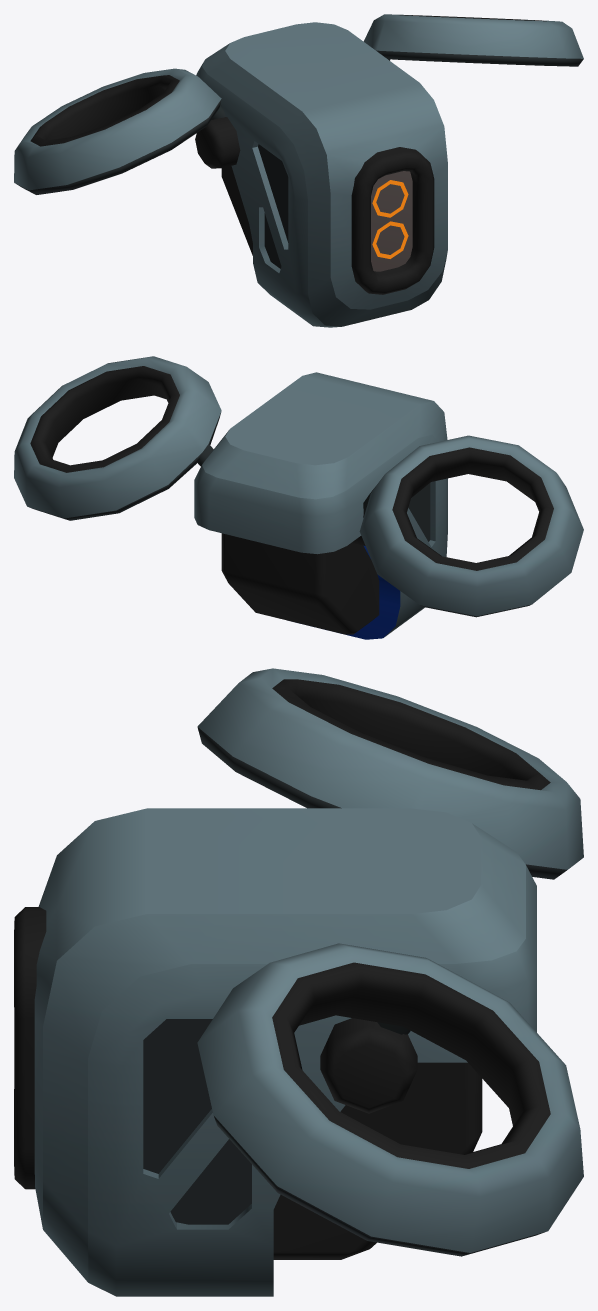
File: Drone_002.glb
3 views of the same model, one above another, from view 1: azimuth 30°, elevation 25°; view 2: azimuth 150°, elevation 25°; view 3: azimuth 270°, elevation 25° (orthographic). The views are drawn at different scales.
Visible parts, largest first — view 1: Drone_002; view 2: Drone_002; view 3: Drone_002.
Boxes of the visible parts, x1=… form: Drone_002: x1=14, y1=14, x2=583, y2=327; Drone_002: x1=14, y1=356, x2=583, y2=639; Drone_002: x1=14, y1=668, x2=583, y2=1296.
Bounding box in the file's own units: 0.821 × 0.332 × 0.406.
Materials: 3 (2 with a texture image).
